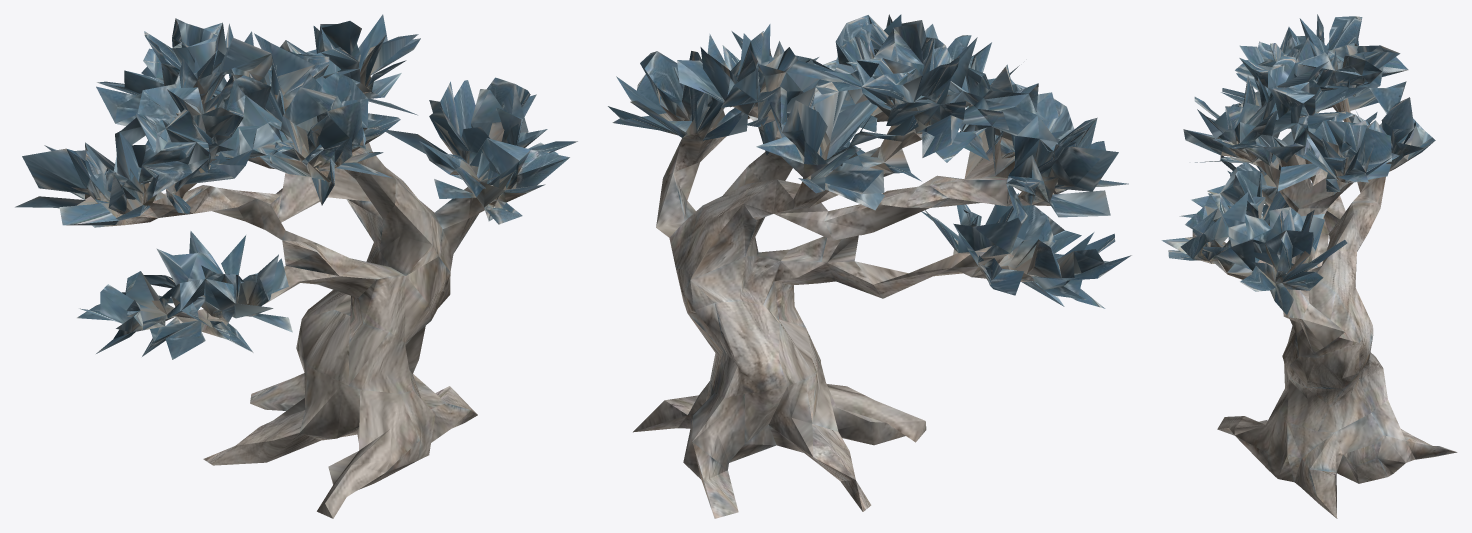
Rendered from fc_windpruned_paddleleaf_tree.glb.
The picture shows the model from 3 angles, left to right: view 1: azimuth 30°, elevation 25°; view 2: azimuth 150°, elevation 25°; view 3: azimuth 270°, elevation 25°; orthographic projection. The views are drawn at different scales.
Visible parts, largest first — view 1: mesh; view 2: mesh; view 3: mesh.
Boxes of the visible parts, bbox=[...] form: mesh: bbox=[15, 14, 577, 518]; mesh: bbox=[608, 14, 1131, 518]; mesh: bbox=[1161, 14, 1457, 518].
Size of the model in its own units: 1.88 by 1.58 by 1.13.
1 material, 1 textured.
